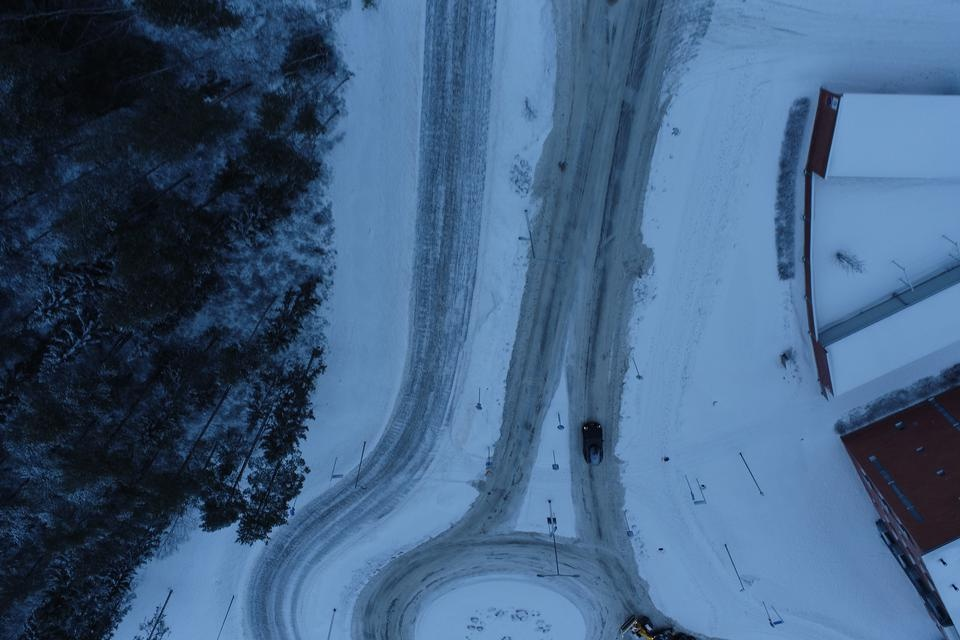roundabout: (227, 444, 698, 640)
